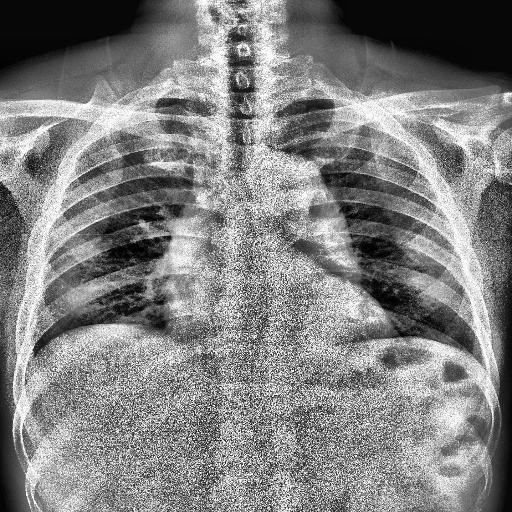0- Aortic enlargement: (165, 145, 325, 277), (244, 152, 349, 251), (260, 148, 348, 242)
